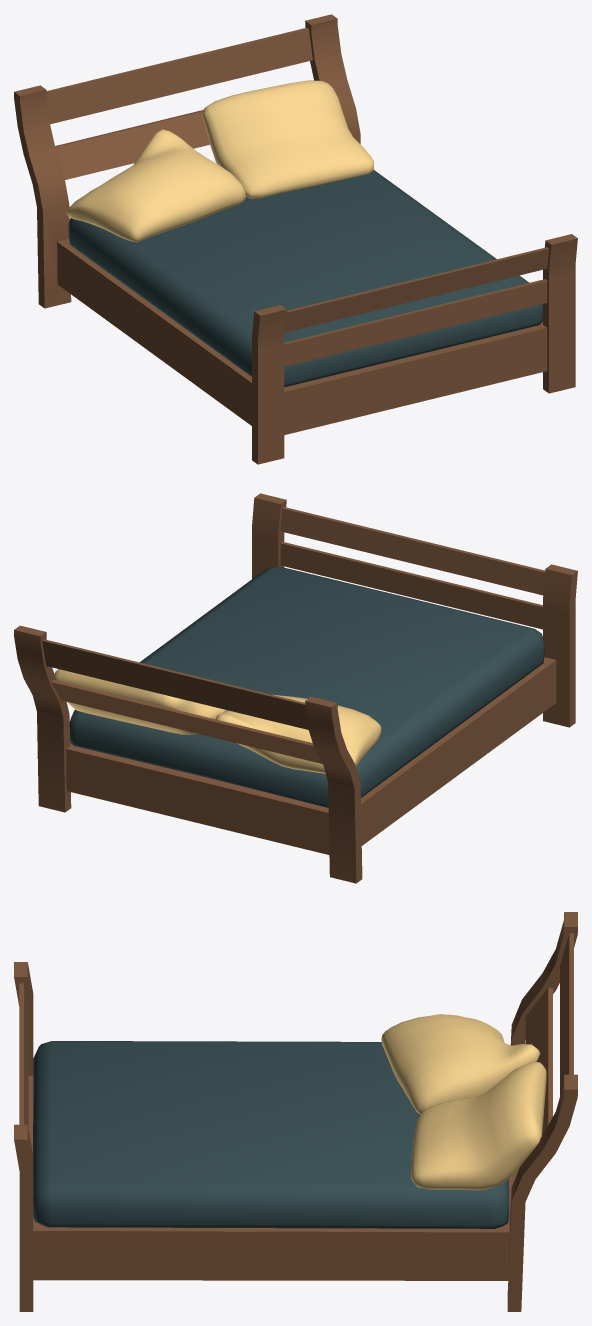
The model's file is 053_054_bed.glb.
The picture shows the model from 3 angles, top to bottom: view 1: azimuth 30°, elevation 25°; view 2: azimuth 150°, elevation 25°; view 3: azimuth 270°, elevation 25°; orthographic projection. The views are drawn at different scales.
Parts seen in each view (by area): view 1: bed, matress, pillow right, pillow left; view 2: bed, matress, pillow left, pillow right; view 3: matress, bed, pillow right, pillow left.
Part boxes in pixels (x1,y1,x2,y2): bed: (14, 14, 577, 464); matress: (68, 170, 542, 387); pillow right: (202, 80, 373, 198); pillow left: (66, 129, 245, 242); bed: (14, 493, 577, 883); matress: (69, 567, 544, 807); pillow left: (216, 694, 381, 773); pillow right: (54, 669, 225, 734); matress: (33, 1041, 509, 1228); bed: (14, 912, 577, 1311); pillow right: (411, 1062, 546, 1190); pillow left: (381, 1014, 540, 1114).
Size of the model in its own units: 2.01 by 1.17 by 2.7.
